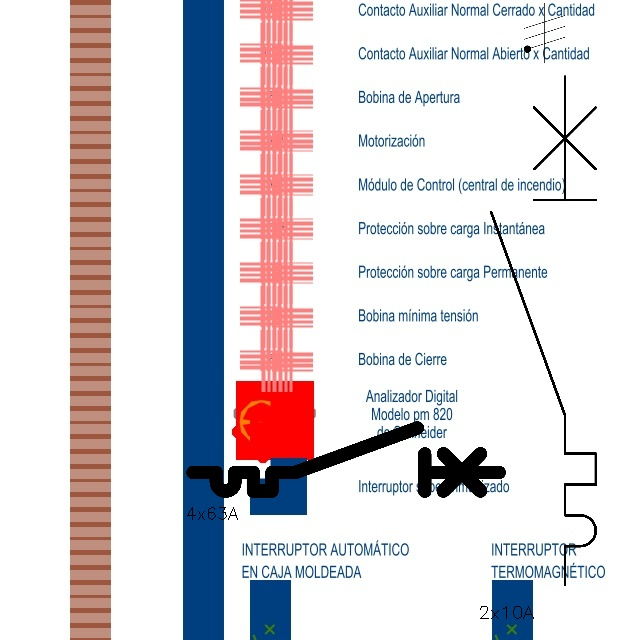interruptor_termomagnetico: (478, 63, 609, 598), (185, 420, 507, 499)
